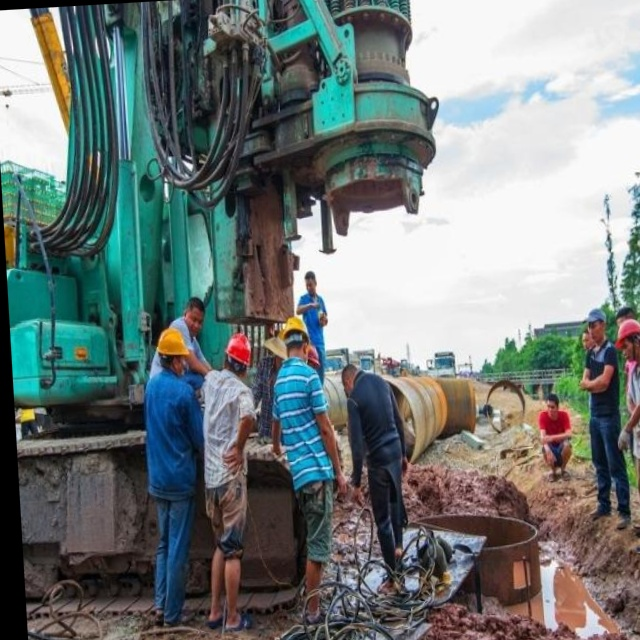Sin_Chaleco: (141, 369, 203, 500), (272, 356, 333, 482)
